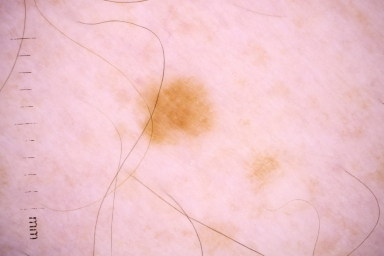melanoma: (140, 79, 215, 144)
